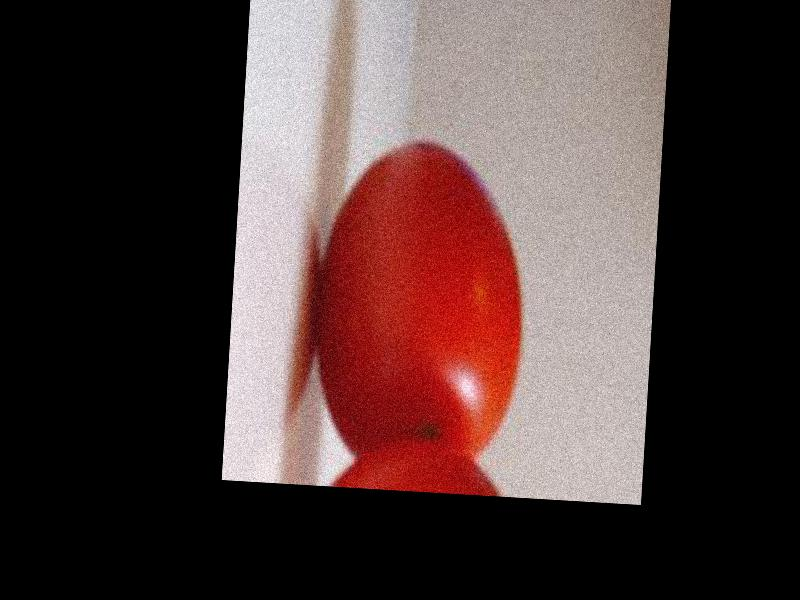Tomato: (306, 138, 531, 462)
